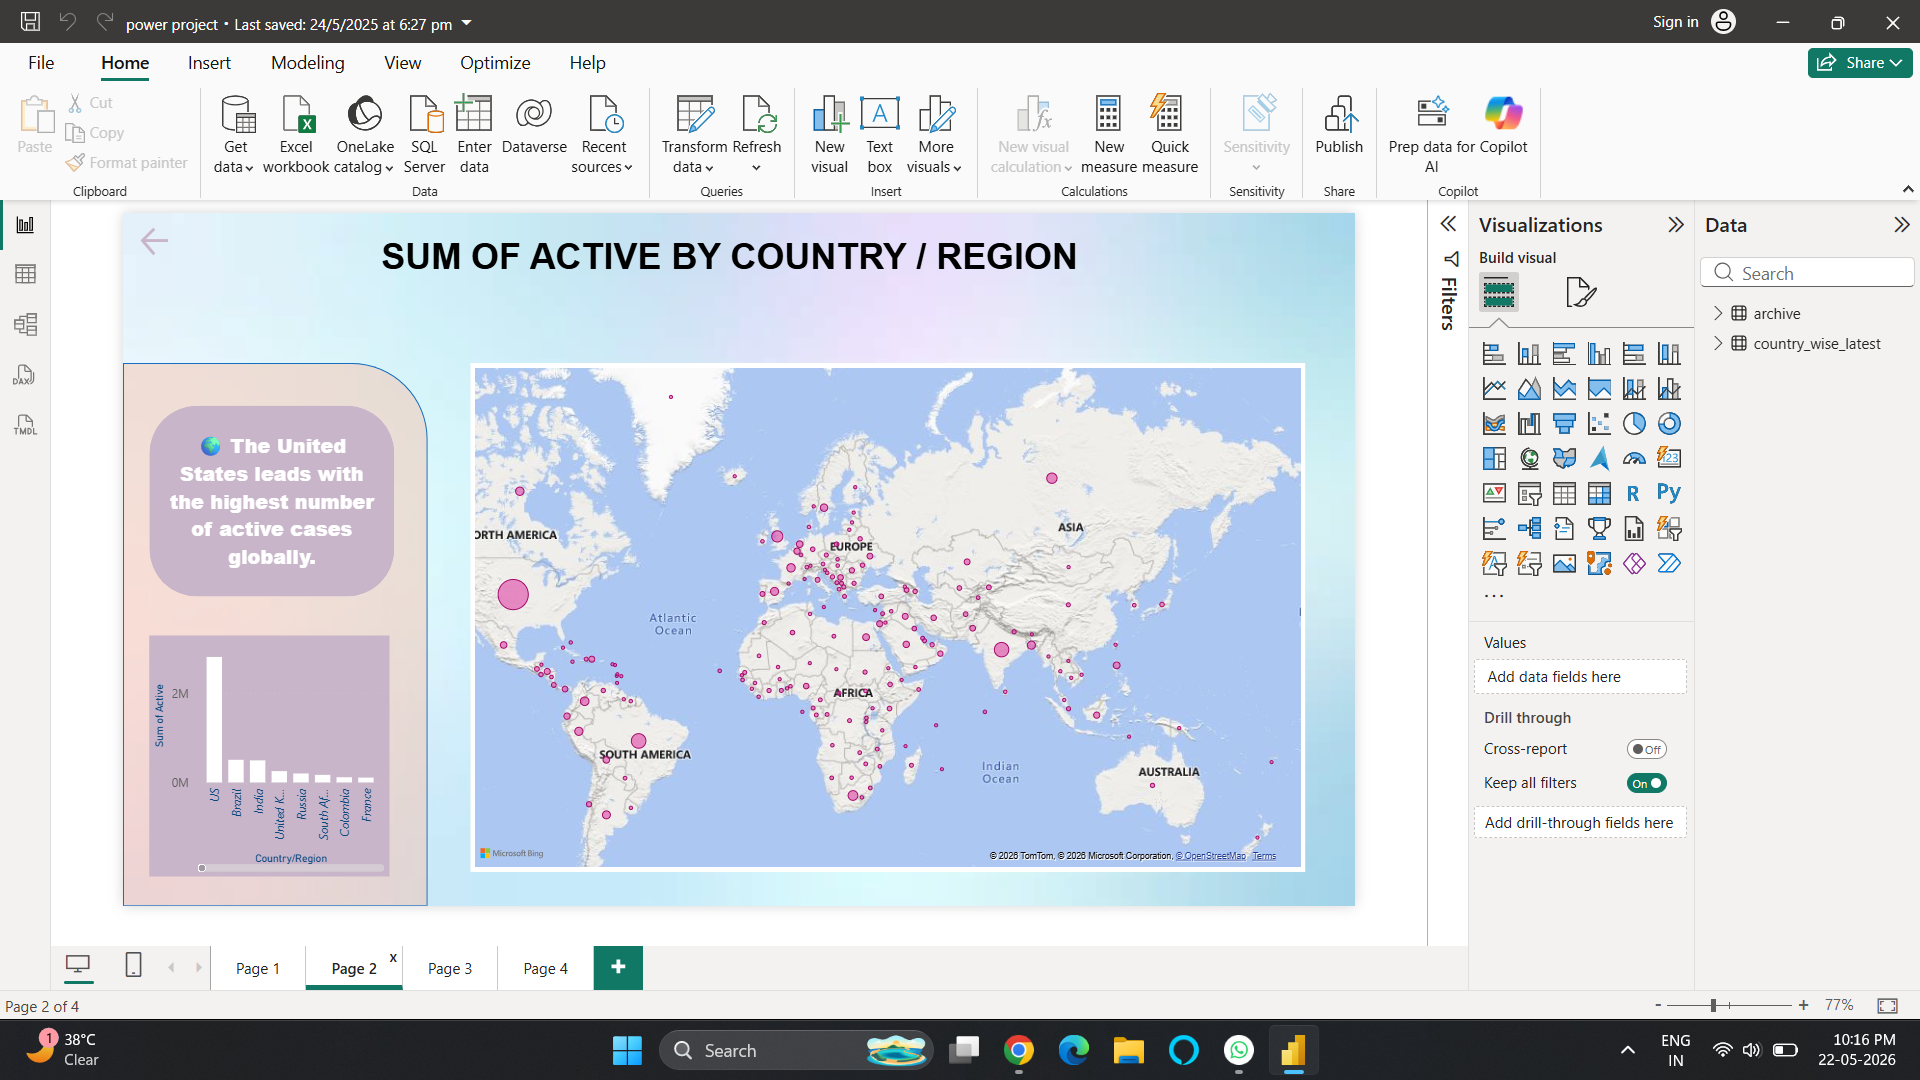

What the dashboard file says about the page in this screenshot:
{"tool":"powerbi","page":{"name":"Page 2","canvas":[1280,720],"ordinal":1},"visuals":[{"type":"map","fields":{"Category":["country_wise_latest.Country/Region"],"Size":["Sum(country_wise_latest.Active)"]},"box":[361.6,156.2,867.1,528.8],"z":0},{"type":"shape","box":[0,156.2,316.4,564.4],"z":1000},{"type":"actionButton","box":[13.7,11,58.9,38.4],"z":2000},{"type":"clusteredColumnChart","fields":{"Category":["country_wise_latest.Country/Region"],"Y":["Sum(country_wise_latest.Active)"]},"box":[27.4,438.4,249.3,250.7],"z":3000},{"type":"textbox","box":[157.5,20,1122.5,61.2],"z":4000},{"type":"shape","box":[27.4,200,254.8,198.6],"z":5000}]}

Visuals, with their boxes on the page's 1280x720 design canvas (x1, y1, x2, y2). These are canvas units, not pixel positions in the 1920x1080 screenshot, which may show the page scaled, cropped or inside an application window:
map - country_wise_latest.Country/Region x Sum(country_wise_latest.Active): [362, 156, 1229, 685]
shape: [0, 156, 316, 721]
actionButton: [14, 11, 73, 49]
clusteredColumnChart - country_wise_latest.Country/Region x Sum(country_wise_latest.Active): [27, 438, 277, 689]
textbox: [158, 20, 1280, 81]
shape: [27, 200, 282, 399]
